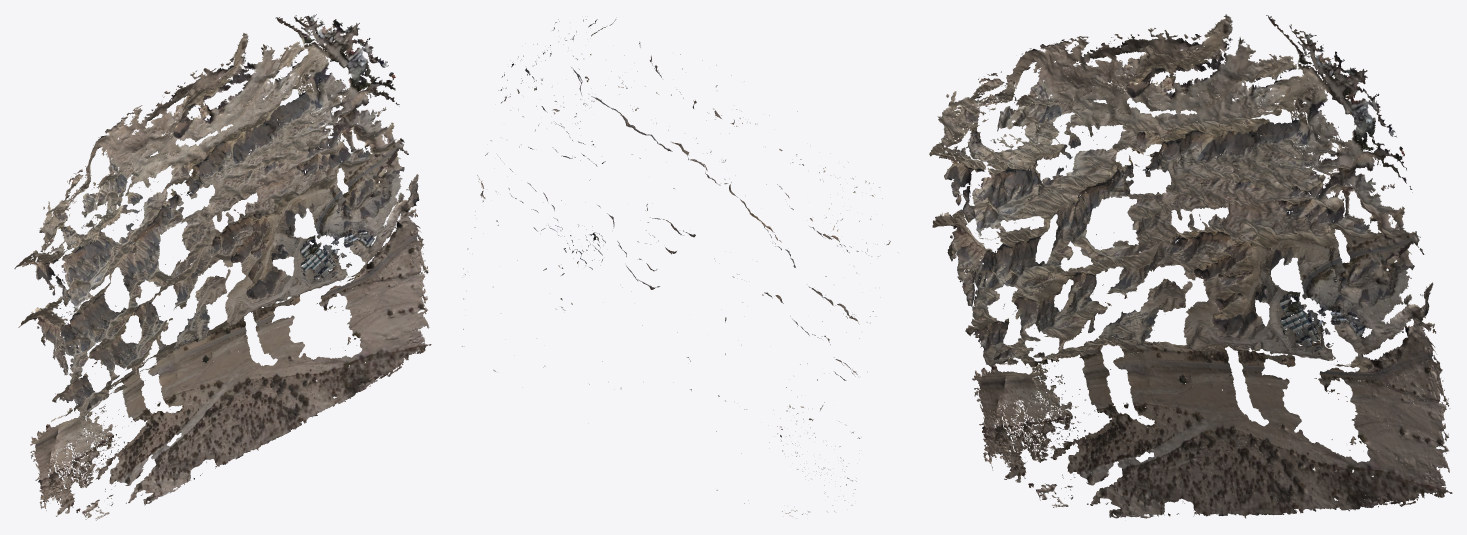
3 renders of one model, left to right at view 1: azimuth 30°, elevation 25°; view 2: azimuth 150°, elevation 25°; view 3: azimuth 330°, elevation 25°, orthographic. The views are drawn at different scales.
Size of the model in its own units: 725 by 742 by 70.87.
30 materials, 30 textured.
